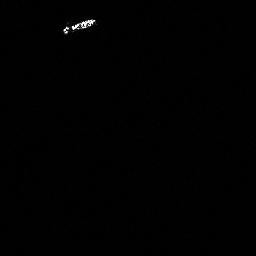ship: (62, 18, 97, 35)
